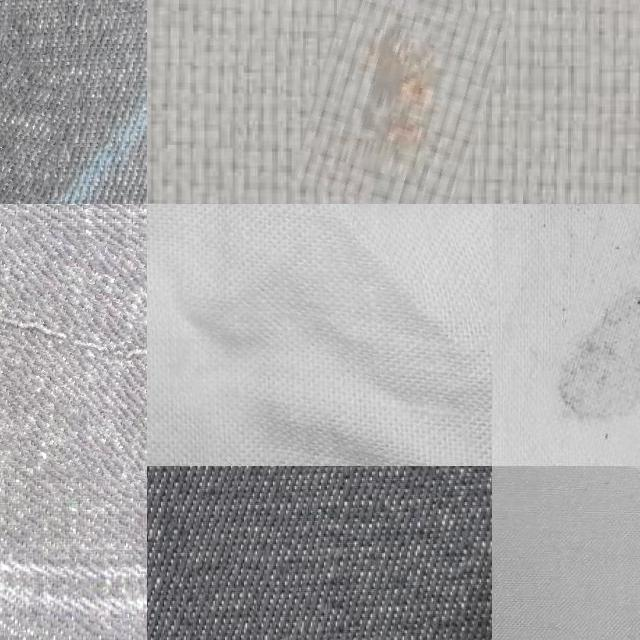Hole: (550, 204, 640, 474)
Thread_other: (0, 204, 147, 510)
seam: (304, 0, 497, 204)
